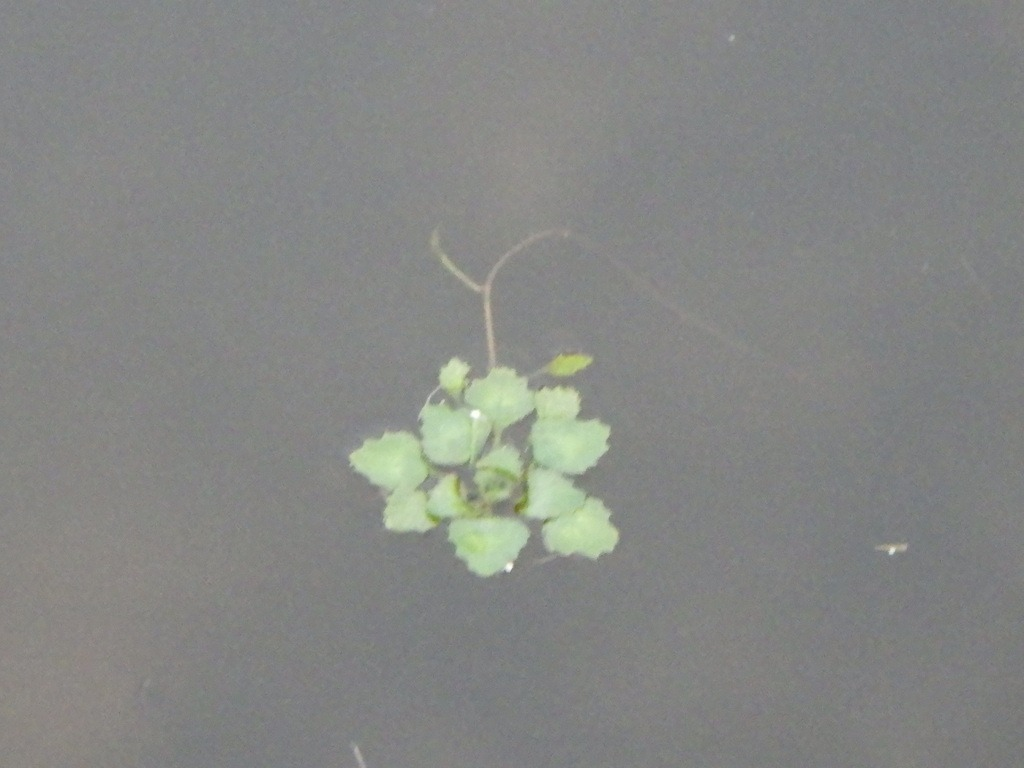water chestnut: (347, 349, 622, 579)
